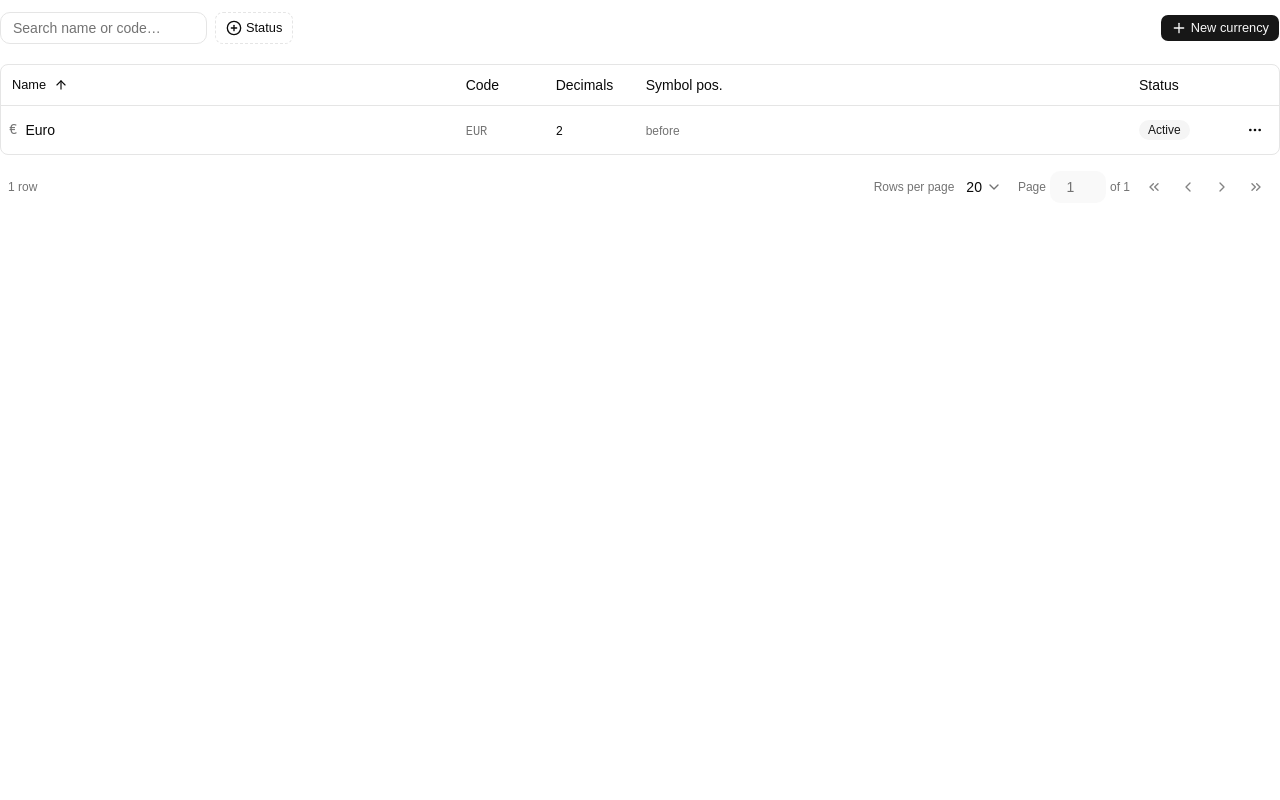
Scenario: CurrenciesList delete › closes once the delete goes through
The image size is (1280, 800).
Expected: the link "New currency" is shown, x1=1160 y1=14 x2=1279 y2=42
Press Enter in the button named "Actions for Euro", box x1=1239 y1=114 x2=1271 y2=146
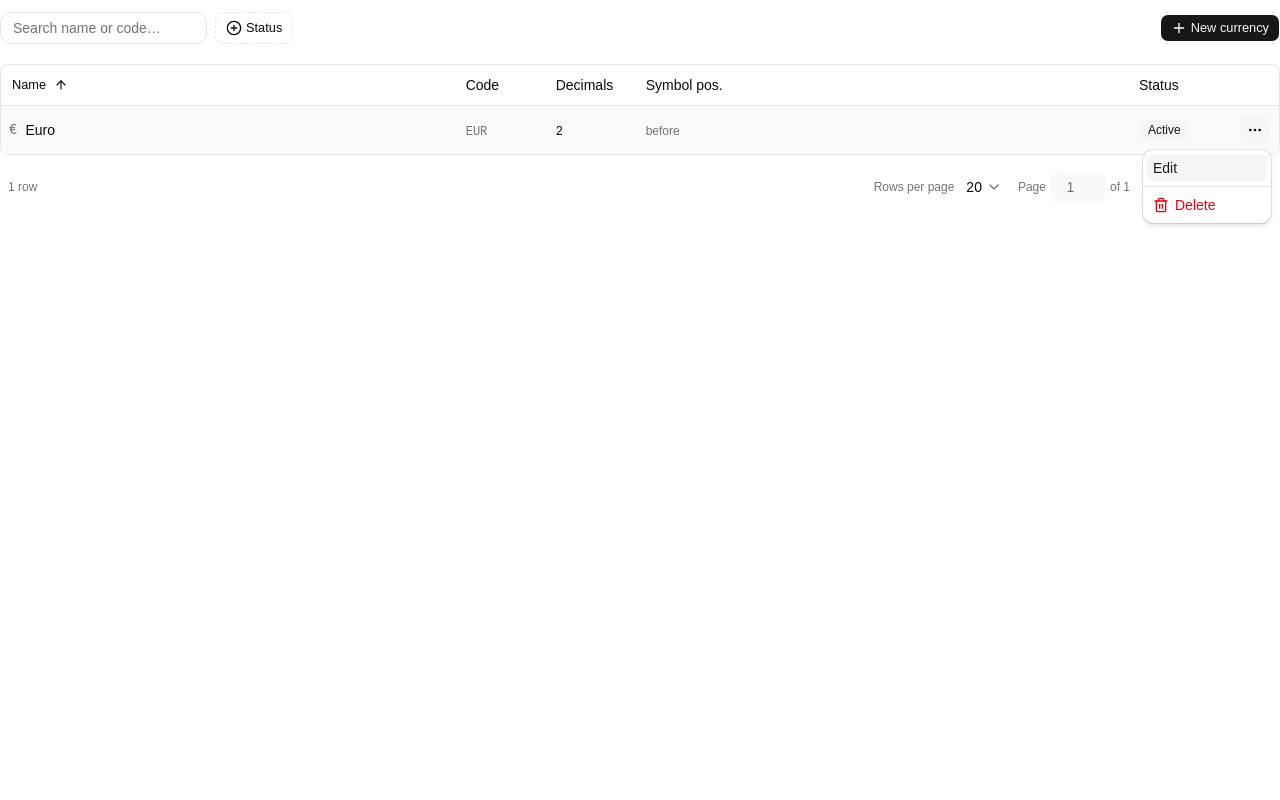
Click the menu item "Delete". click: (1184, 205)
box: x1=1153 y1=197 x2=1216 y2=213
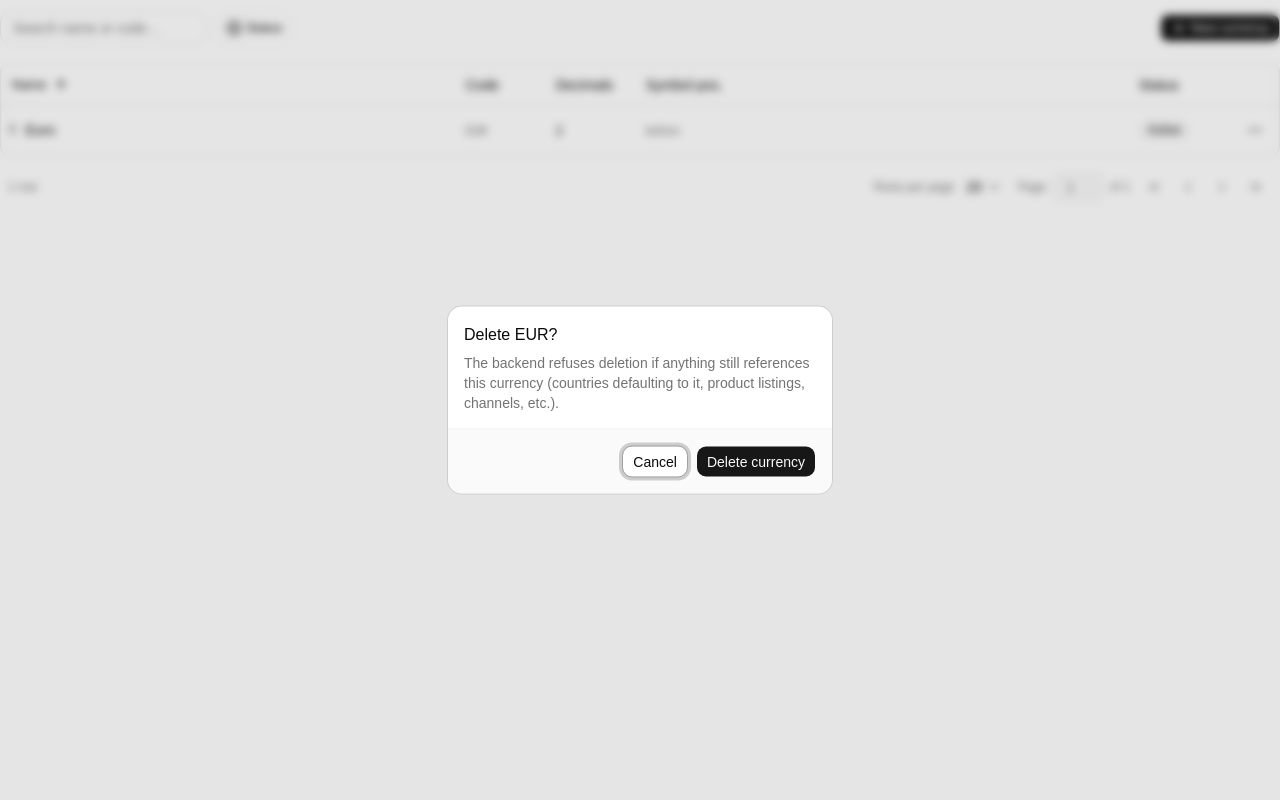
Click the button "Delete currency". click: (756, 462)
box: x1=696 y1=446 x2=816 y2=478
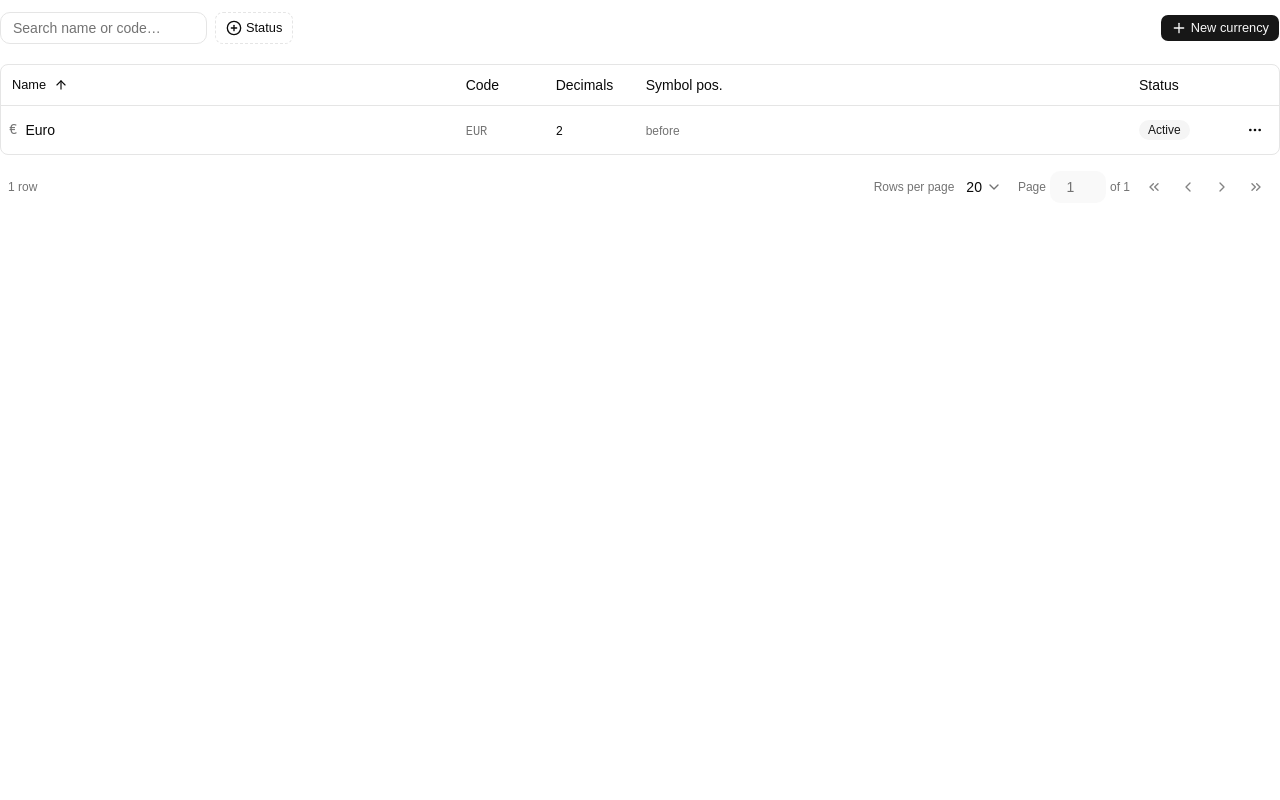
Now the dialog is gone
